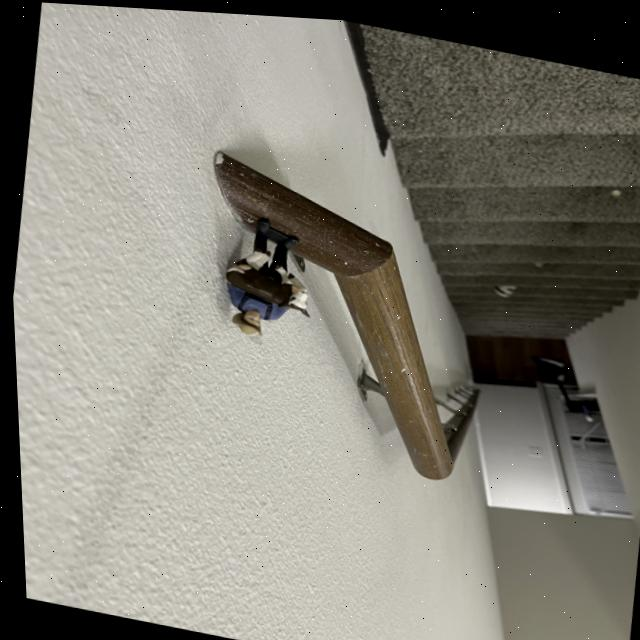cow: (221, 240, 317, 315)
person: (211, 281, 284, 342)
